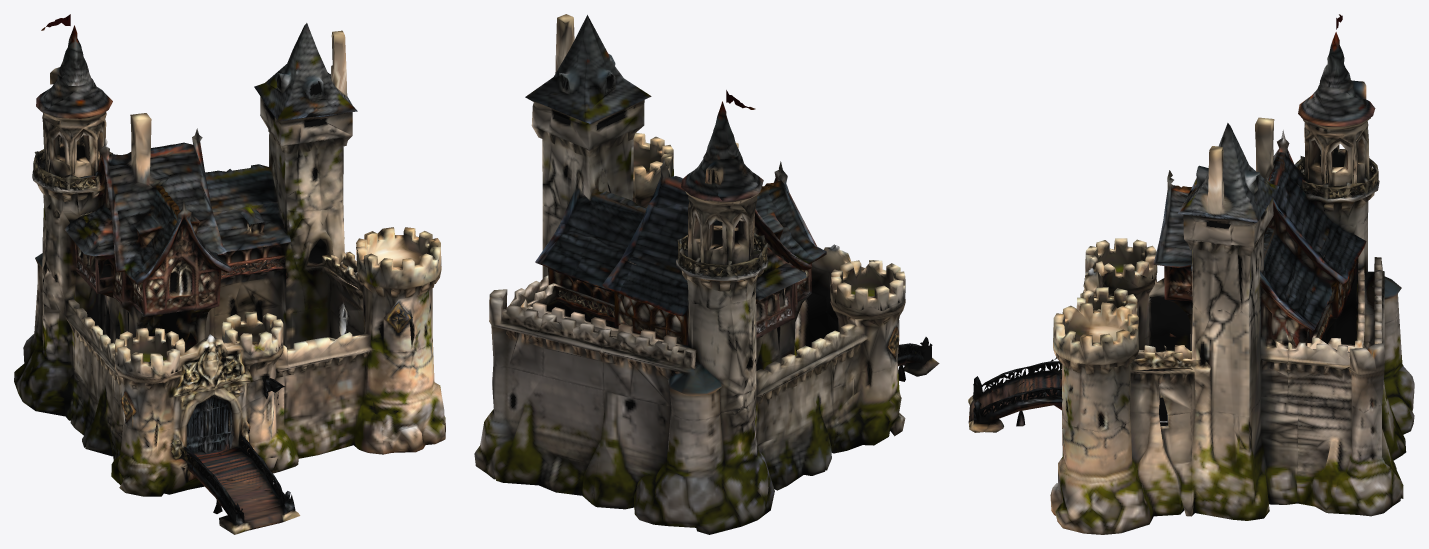
The model's file is gatehouse_reference_decimated.glb.
The picture shows the model from 3 angles, left to right: view 1: azimuth 30°, elevation 25°; view 2: azimuth 150°, elevation 25°; view 3: azimuth 270°, elevation 25°; orthographic projection. The views are drawn at different scales.
Visible parts, largest first — view 1: tmp9ml0nn6nobj; view 2: tmp9ml0nn6nobj; view 3: tmp9ml0nn6nobj.
Part boxes in pixels (box(x1,y1,x2,y2)): tmp9ml0nn6nobj: box(14, 14, 445, 534); tmp9ml0nn6nobj: box(474, 14, 939, 534); tmp9ml0nn6nobj: box(968, 14, 1414, 534).
Size of the model in its own units: 0.8216 by 0.9677 by 0.9997.
Materials: 1 (1 with a texture image).
